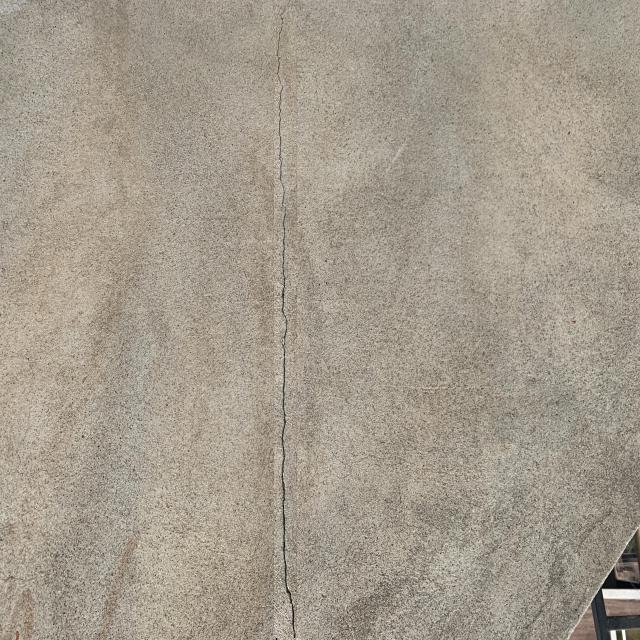vertical crack: (274, 8, 296, 638)
